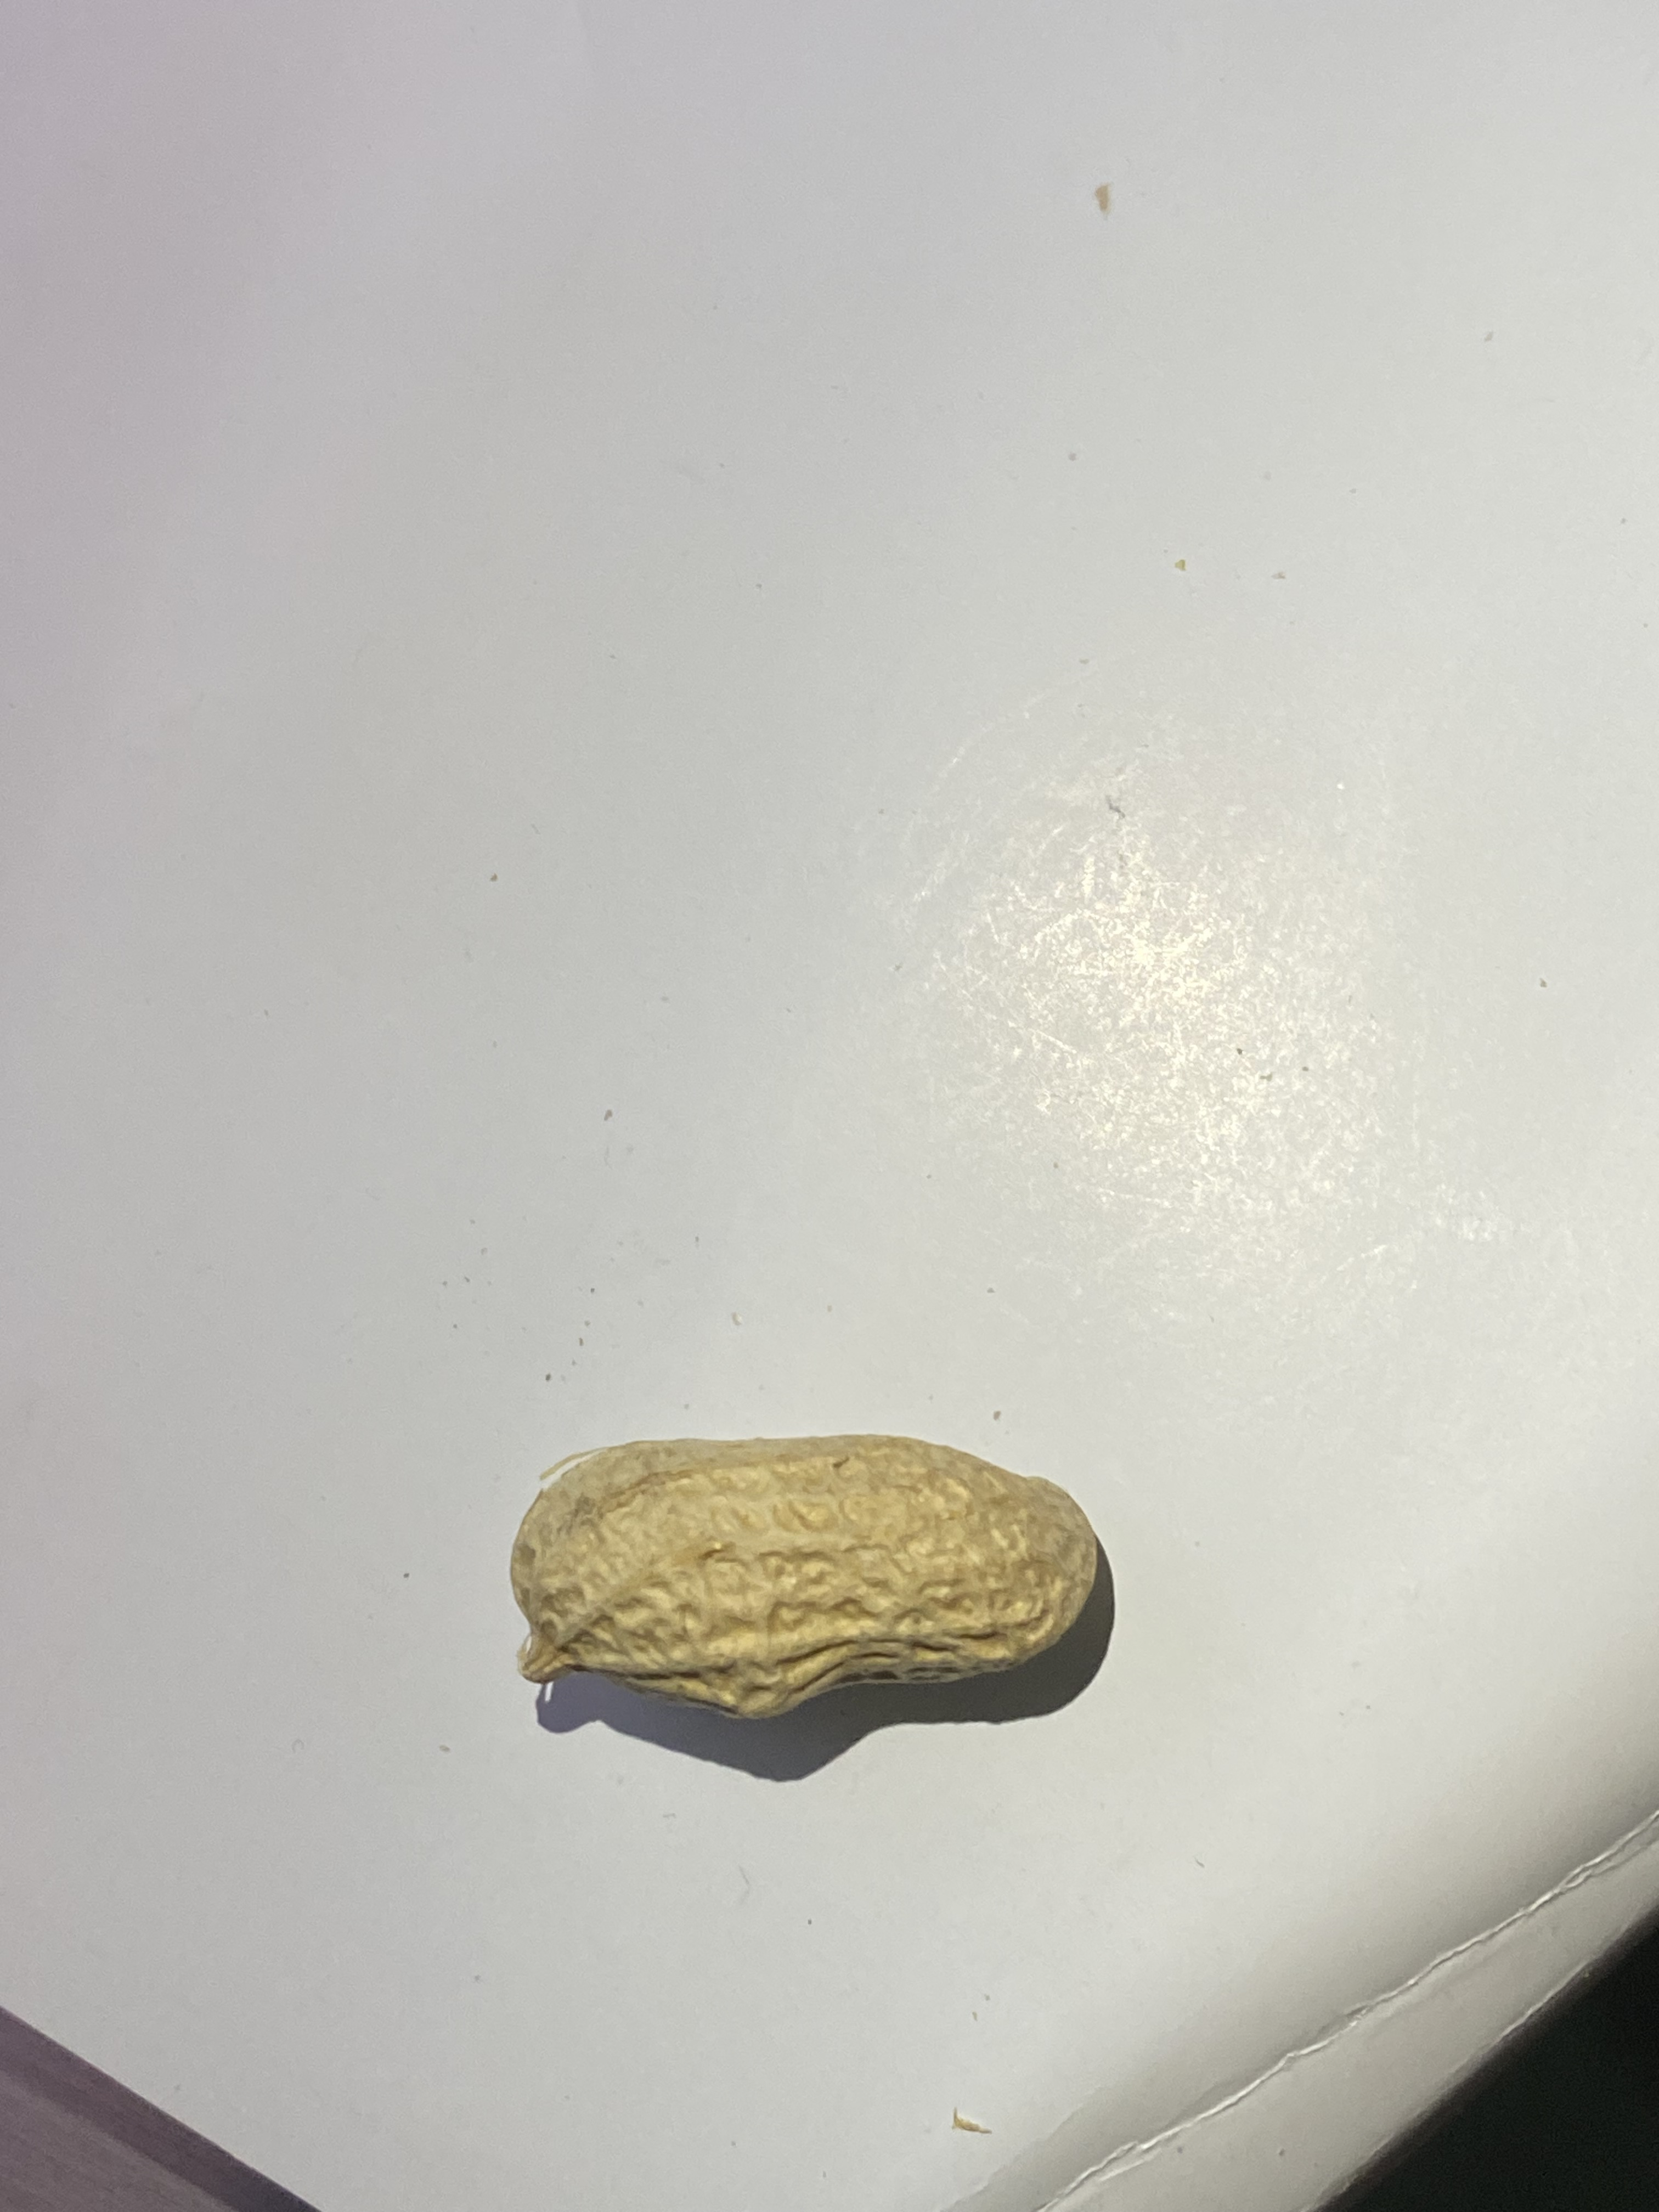kacang2: (420, 1428, 1195, 1733)
